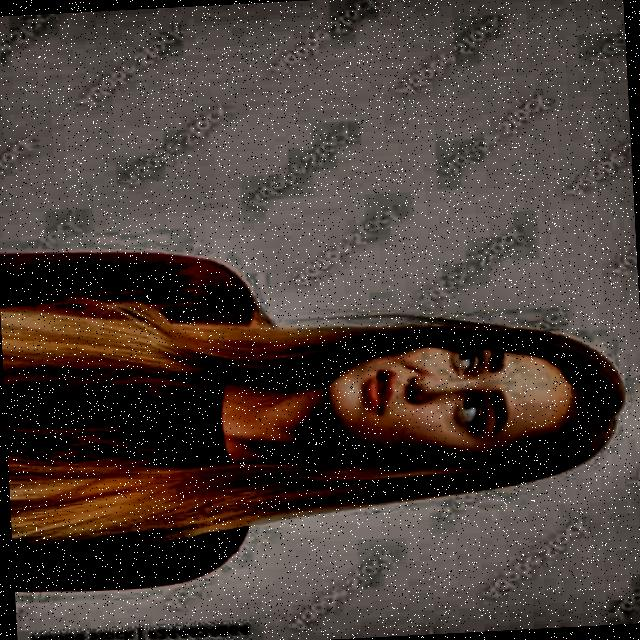disgust: (227, 288, 640, 549)
